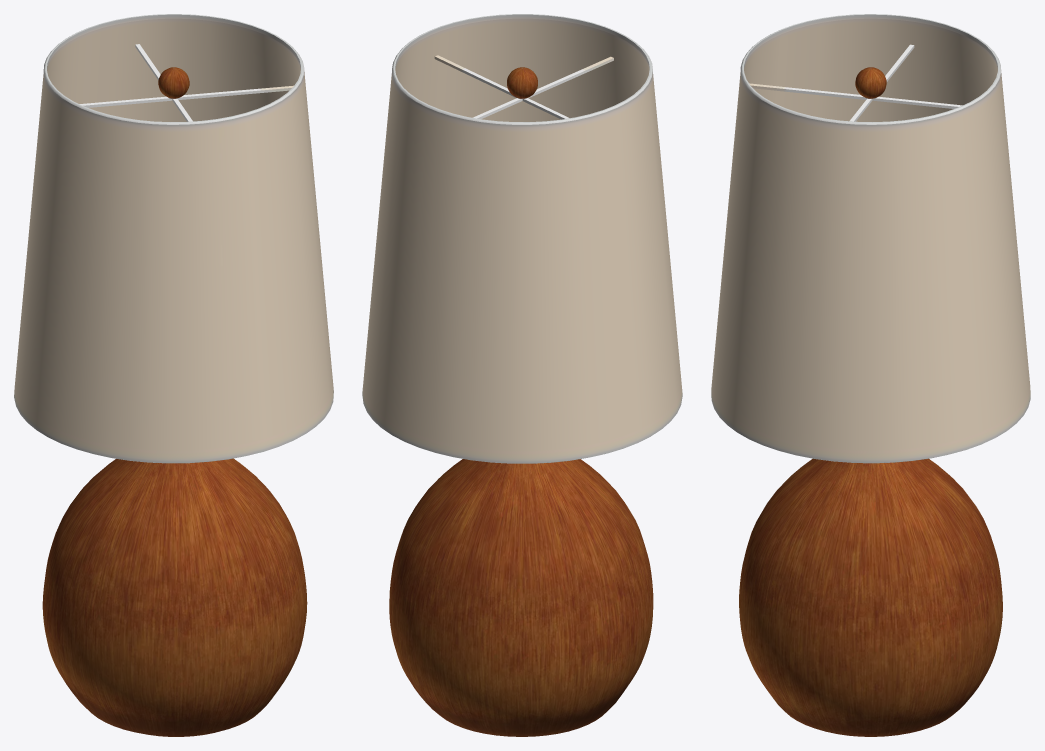
3 views of the same model, side by side, from view 1: azimuth 30°, elevation 25°; view 2: azimuth 150°, elevation 25°; view 3: azimuth 270°, elevation 25° (orthographic).
Visible parts, largest first — view 1: RootNode; view 2: RootNode; view 3: RootNode.
Boxes of the visible parts, <box> form: RootNode: <box>14,14,333,736</box>; RootNode: <box>362,14,682,736</box>; RootNode: <box>711,14,1030,736</box>.
Bounding box in the file's own units: 0.2439 × 0.5362 × 0.2436.
Materials: 1 (1 with a texture image).
